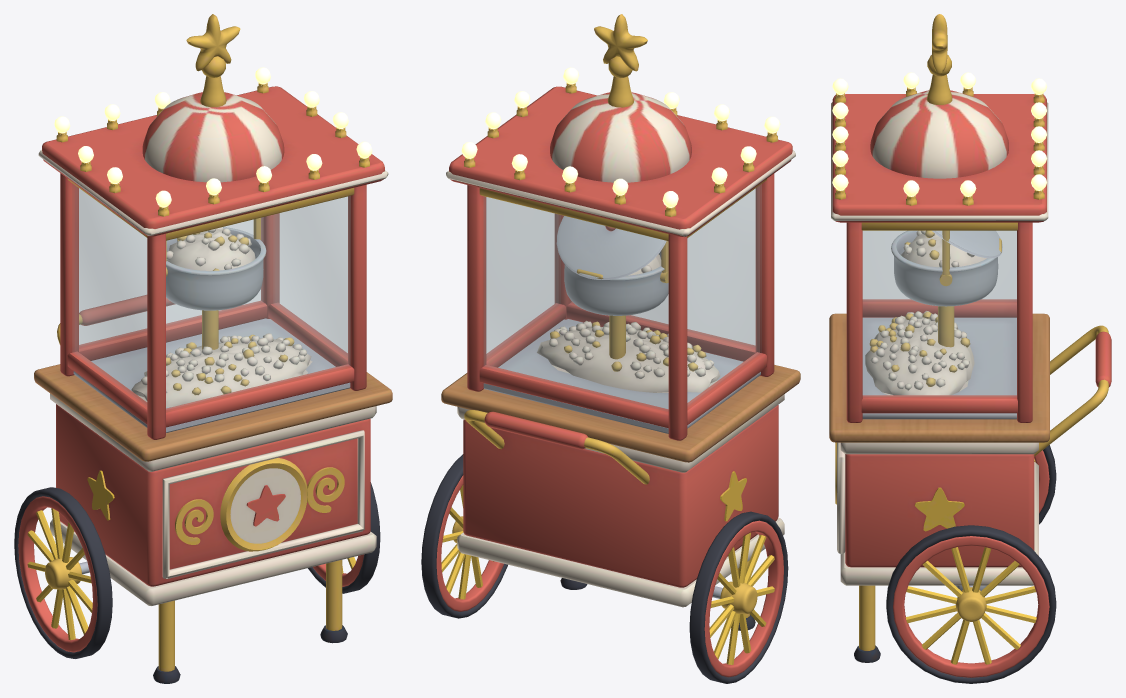
The model's file is popcorn-machine.glb.
3 views of the same model, side by side, from view 1: azimuth 30°, elevation 25°; view 2: azimuth 150°, elevation 25°; view 3: azimuth 270°, elevation 25° (orthographic). The views are drawn at different scales.
Parts seen in each view (by area): view 1: popcorn-machine_body, popcorn-machine_glass, popcorn-machine_wheel_l, popcorn-machine_bulbs, popcorn-machine_wheel_r; view 2: popcorn-machine_body, popcorn-machine_glass, popcorn-machine_wheel_l, popcorn-machine_wheel_r, popcorn-machine_lid, popcorn-machine_bulbs; view 3: popcorn-machine_body, popcorn-machine_glass, popcorn-machine_wheel_r, popcorn-machine_bulbs, popcorn-machine_lid, popcorn-machine_wheel_l.
Boxes of the visible parts, left/top/right/bottom form: popcorn-machine_body: left=34, top=14, right=392, bottom=683; popcorn-machine_glass: left=73, top=185, right=350, bottom=410; popcorn-machine_wheel_l: left=14, top=487, right=112, bottom=658; popcorn-machine_bulbs: left=54, top=67, right=372, bottom=208; popcorn-machine_wheel_r: left=308, top=482, right=380, bottom=593; popcorn-machine_body: left=441, top=14, right=800, bottom=630; popcorn-machine_glass: left=484, top=185, right=761, bottom=411; popcorn-machine_wheel_l: left=689, top=511, right=788, bottom=683; popcorn-machine_wheel_r: left=421, top=454, right=507, bottom=618; popcorn-machine_lid: left=556, top=216, right=666, bottom=279; popcorn-machine_bulbs: left=461, top=67, right=780, bottom=208; popcorn-machine_body: left=829, top=14, right=1111, bottom=662; popcorn-machine_glass: left=862, top=230, right=1016, bottom=396; popcorn-machine_wheel_r: left=886, top=525, right=1056, bottom=683; popcorn-machine_bulbs: left=832, top=72, right=1047, bottom=197; popcorn-machine_lid: left=932, top=230, right=1002, bottom=258; popcorn-machine_wheel_l: left=1034, top=445, right=1056, bottom=524.
Bounding box in the file's own units: 1.05 × 2.11 × 0.895.
12 materials, 2 textured.
